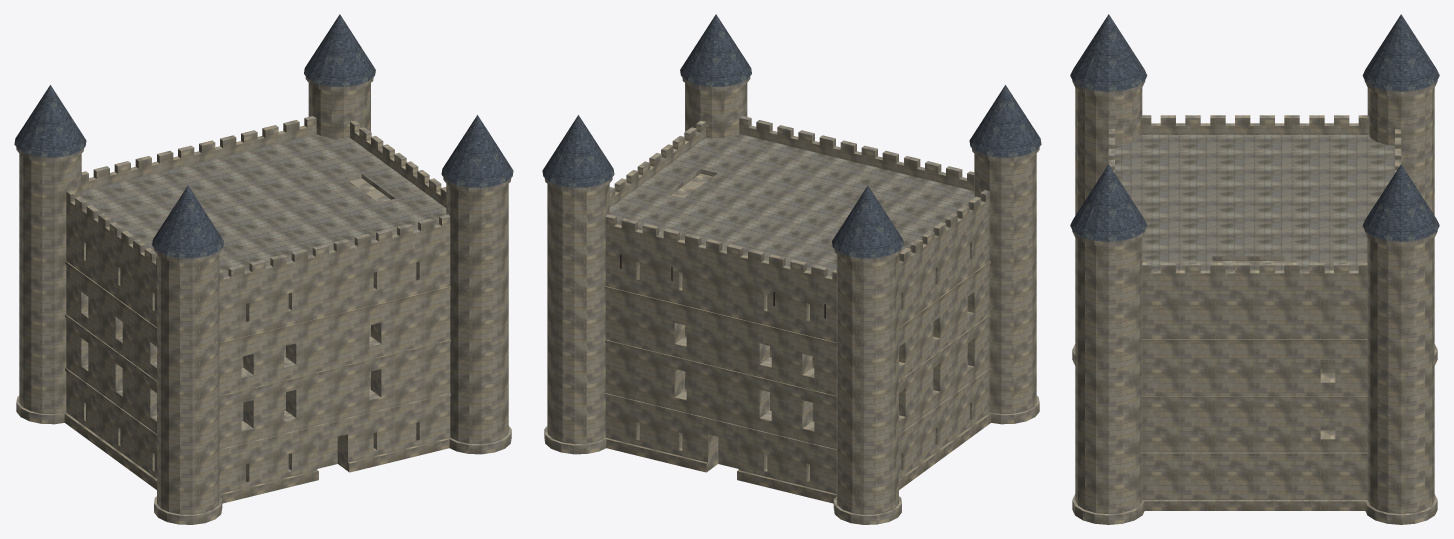
The model's file is fort-keep.reveal-v1.lod1.glb.
3 views of the same model, side by side, from view 1: azimuth 30°, elevation 25°; view 2: azimuth 150°, elevation 25°; view 3: azimuth 270°, elevation 25° (orthographic). The views are drawn at different scales.
Visible parts, largest first — view 1: fort-keep; view 2: fort-keep; view 3: fort-keep.
Part boxes in pixels (x1,y1,x2,y2): fort-keep: (14, 14, 513, 524); fort-keep: (542, 14, 1041, 524); fort-keep: (1070, 14, 1439, 524).
Bounding box in the file's own units: 41.4 × 36.5 × 35.4.
Materials: 4 (3 with a texture image).
